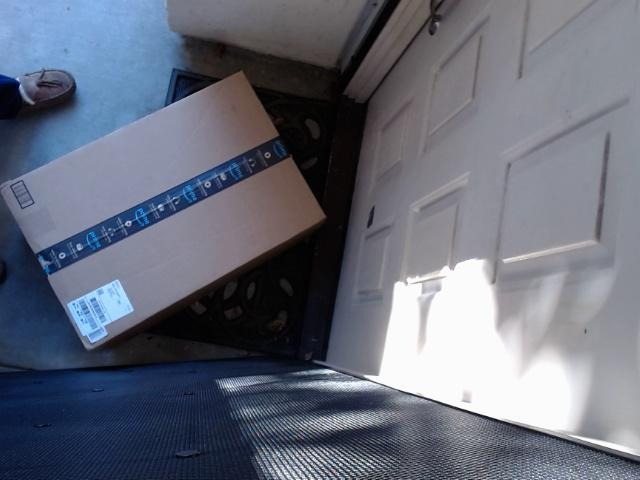box: (1, 78, 330, 355)
